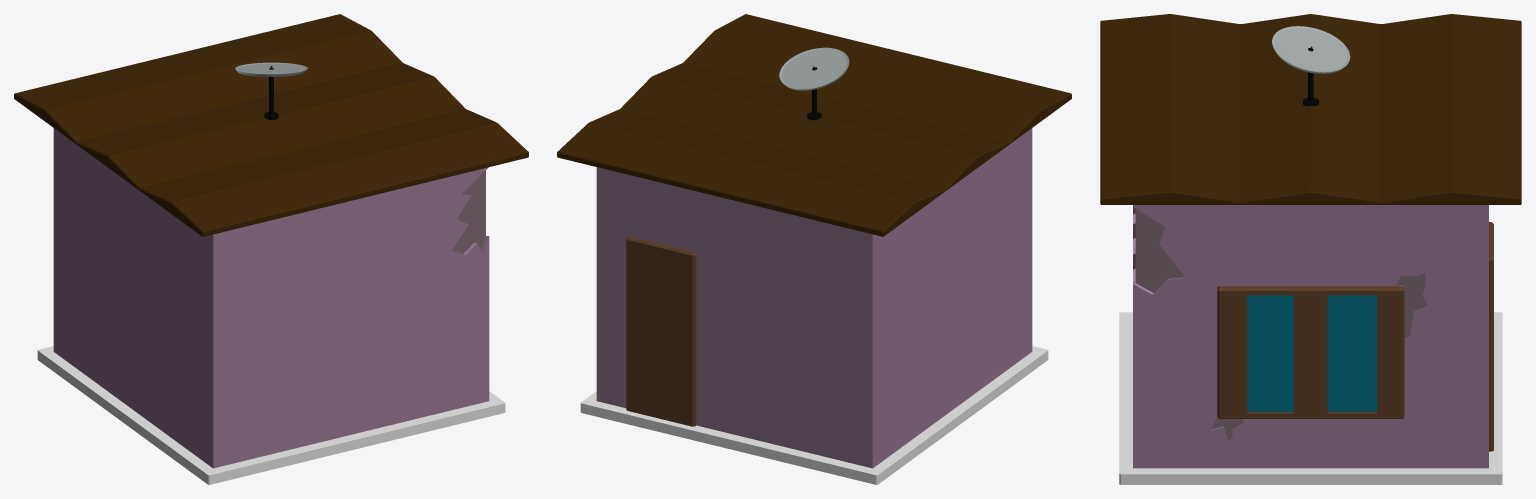
Rendered from Building #04.fbx.
3 views of the same model, side by side, from view 1: azimuth 30°, elevation 25°; view 2: azimuth 150°, elevation 25°; view 3: azimuth 270°, elevation 25° (orthographic). The views are drawn at different scales.
Visible parts, largest first — view 1: House, Roof, Floor, Crack.003, Metal; view 2: House, Roof, Door, Floor, Metal; view 3: Roof, House, Wooden, Floor, Window.002, Window.001, Metal, Crack.003, Door, Crack.001.
Part boxes in pixels (x1=…): House: x1=53, y1=128, x2=489, y2=468; Roof: x1=14, y1=14, x2=528, y2=236; Floor: x1=37, y1=346, x2=505, y2=484; Crack.003: x1=452, y1=170, x2=485, y2=253; Metal: x1=235, y1=62, x2=307, y2=76; House: x1=596, y1=128, x2=1032, y2=468; Roof: x1=557, y1=14, x2=1071, y2=236; Door: x1=626, y1=236, x2=696, y2=426; Floor: x1=580, y1=346, x2=1048, y2=484; Metal: x1=779, y1=47, x2=849, y2=90; Roof: x1=1100, y1=14, x2=1521, y2=204; House: x1=1133, y1=205, x2=1488, y2=468; Wooden: x1=1217, y1=285, x2=1404, y2=418; Floor: x1=1119, y1=312, x2=1502, y2=484; Window.002: x1=1327, y1=295, x2=1376, y2=411; Window.001: x1=1247, y1=295, x2=1293, y2=411; Metal: x1=1272, y1=26, x2=1350, y2=73; Crack.003: x1=1135, y1=209, x2=1184, y2=292; Door: x1=1489, y1=222, x2=1493, y2=451; Crack.001: x1=1396, y1=273, x2=1427, y2=338.
Size of the model in its own units: 200 by 191 by 200.
